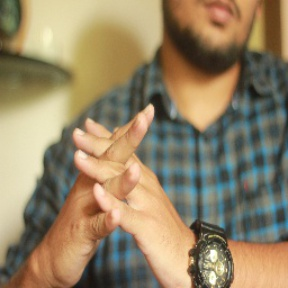W: (56, 96, 180, 249)
